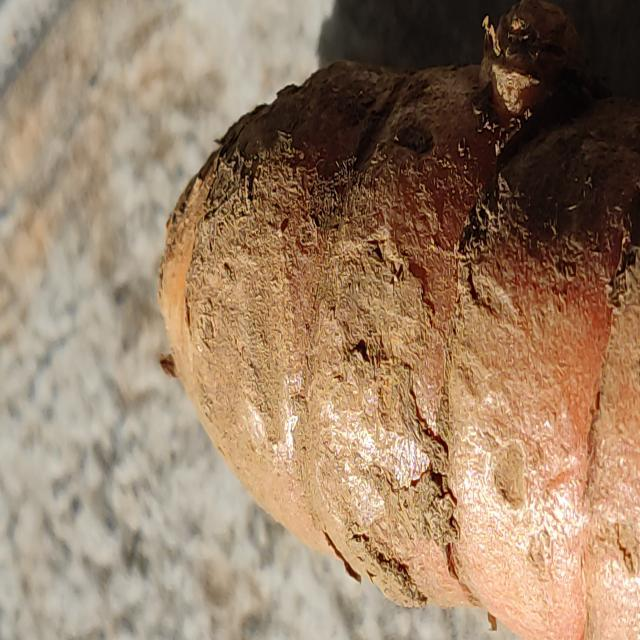ginger: (176, 30, 640, 599)
